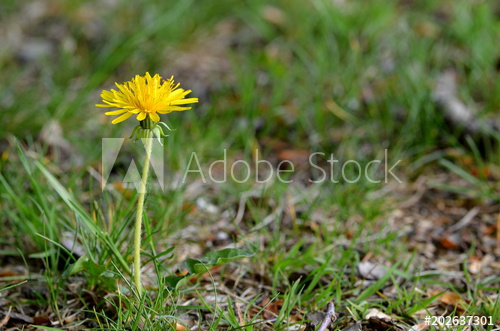dandelion: (98, 71, 195, 118)
